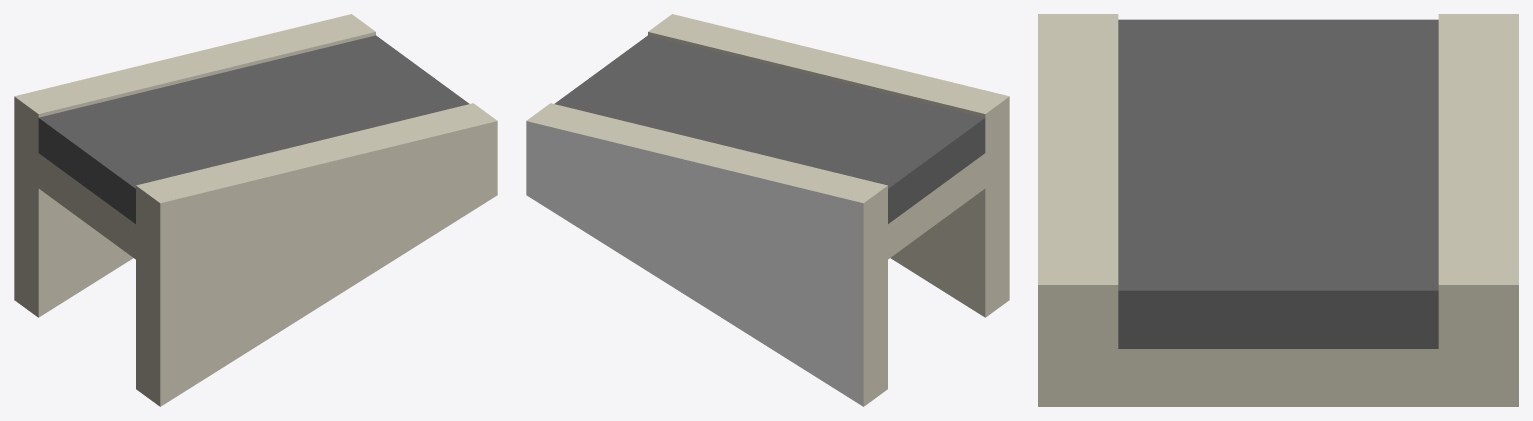
File: tile124.fbx
3 renders of one model, left to right at view 1: azimuth 30°, elevation 25°; view 2: azimuth 150°, elevation 25°; view 3: azimuth 270°, elevation 25°, orthographic. The views are drawn at different scales.
Visible parts, largest first — view 1: tile124; view 2: tile124; view 3: tile124.
Part boxes in pixels (x1,y1,x2,y2): tile124: (14, 14, 497, 406); tile124: (526, 14, 1009, 406); tile124: (1038, 14, 1518, 406).
Size of the model in its own units: 10 by 5.77 by 7.5.
